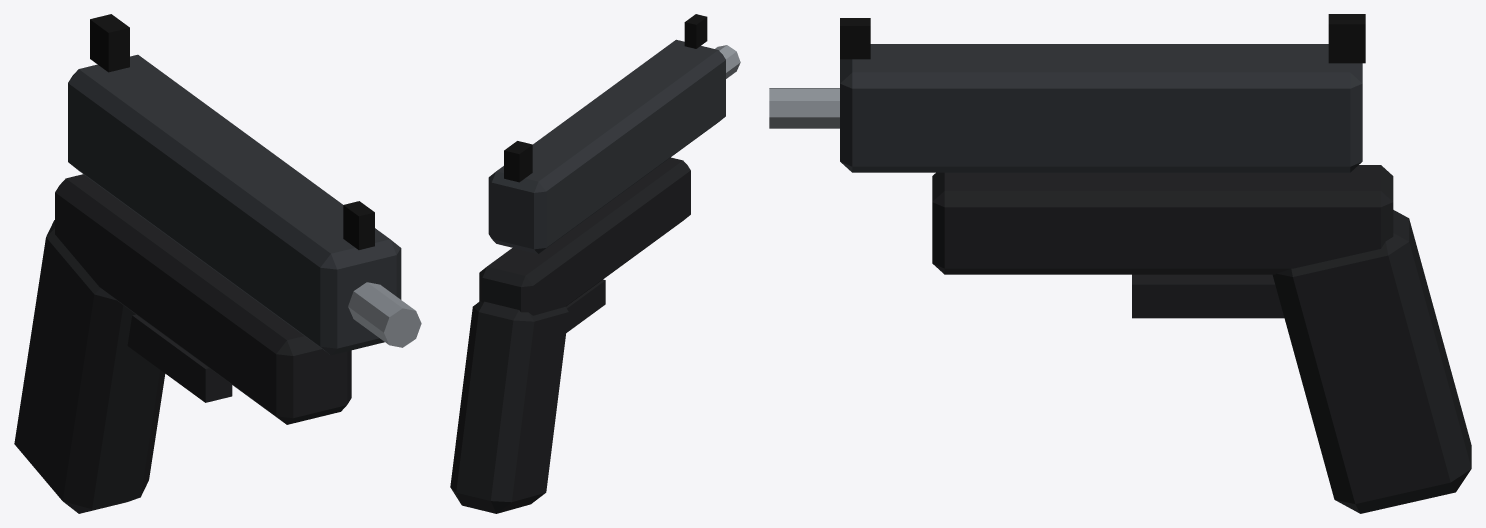
File: SM_Pistola.fbx
The picture shows the model from 3 angles, left to right: view 1: azimuth 30°, elevation 25°; view 2: azimuth 150°, elevation 25°; view 3: azimuth 270°, elevation 25°; orthographic projection. The views are drawn at different scales.
Parts seen in each view (by area): view 1: SM_Pistola; view 2: SM_Pistola; view 3: SM_Pistola.
Boxes of the visible parts, x1,y1,x2,y2 form: SM_Pistola: (14,14,421,513); SM_Pistola: (450,14,740,513); SM_Pistola: (769,14,1471,513).
Size of the model in its own units: 0.032 by 0.2285 by 0.1734.
